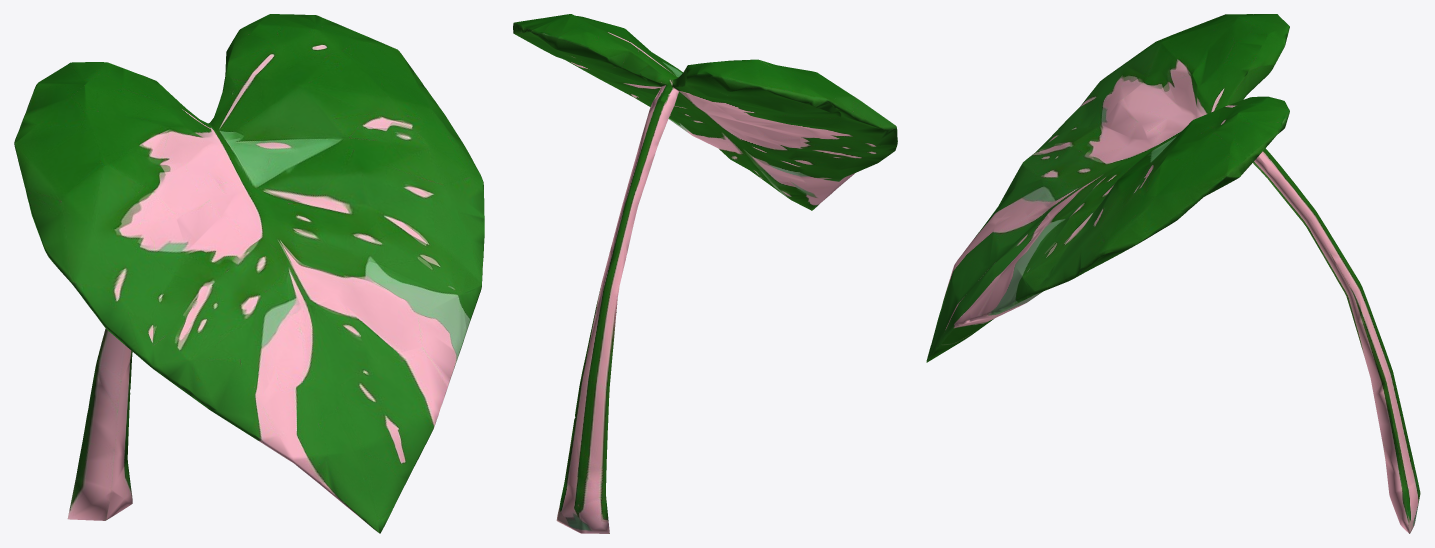
File: pp_leaf_young_pinkmarble.glb
3 renders of one model, left to right at view 1: azimuth 30°, elevation 25°; view 2: azimuth 150°, elevation 25°; view 3: azimuth 270°, elevation 25°, orthographic. The views are drawn at different scales.
Size of the model in its own units: 1.57 by 1.9 by 1.85.
Materials: 1 (1 with a texture image).
